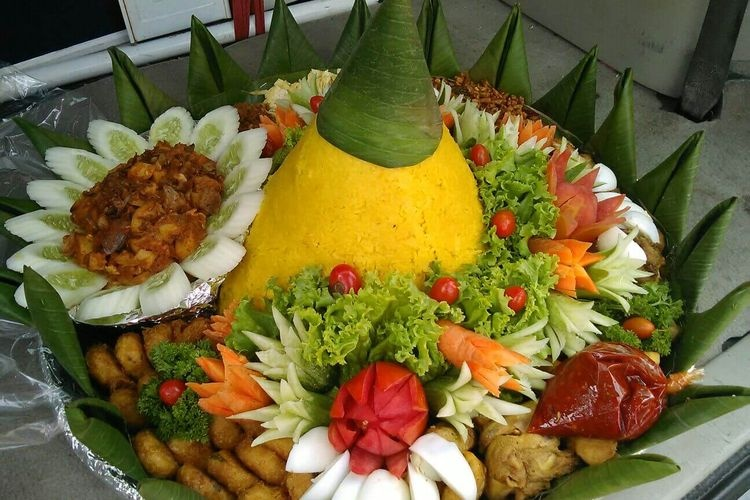tumpeng: (306, 1, 516, 271)
